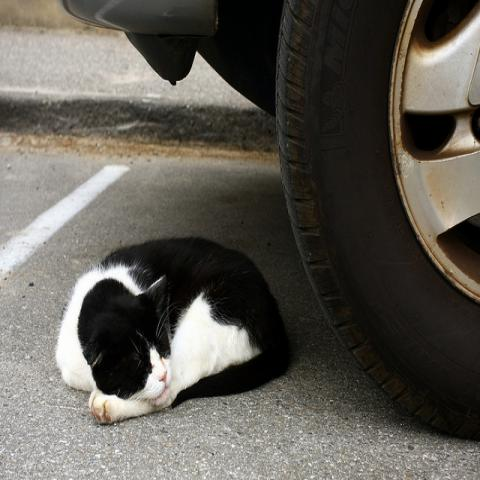car: (59, 1, 480, 444)
